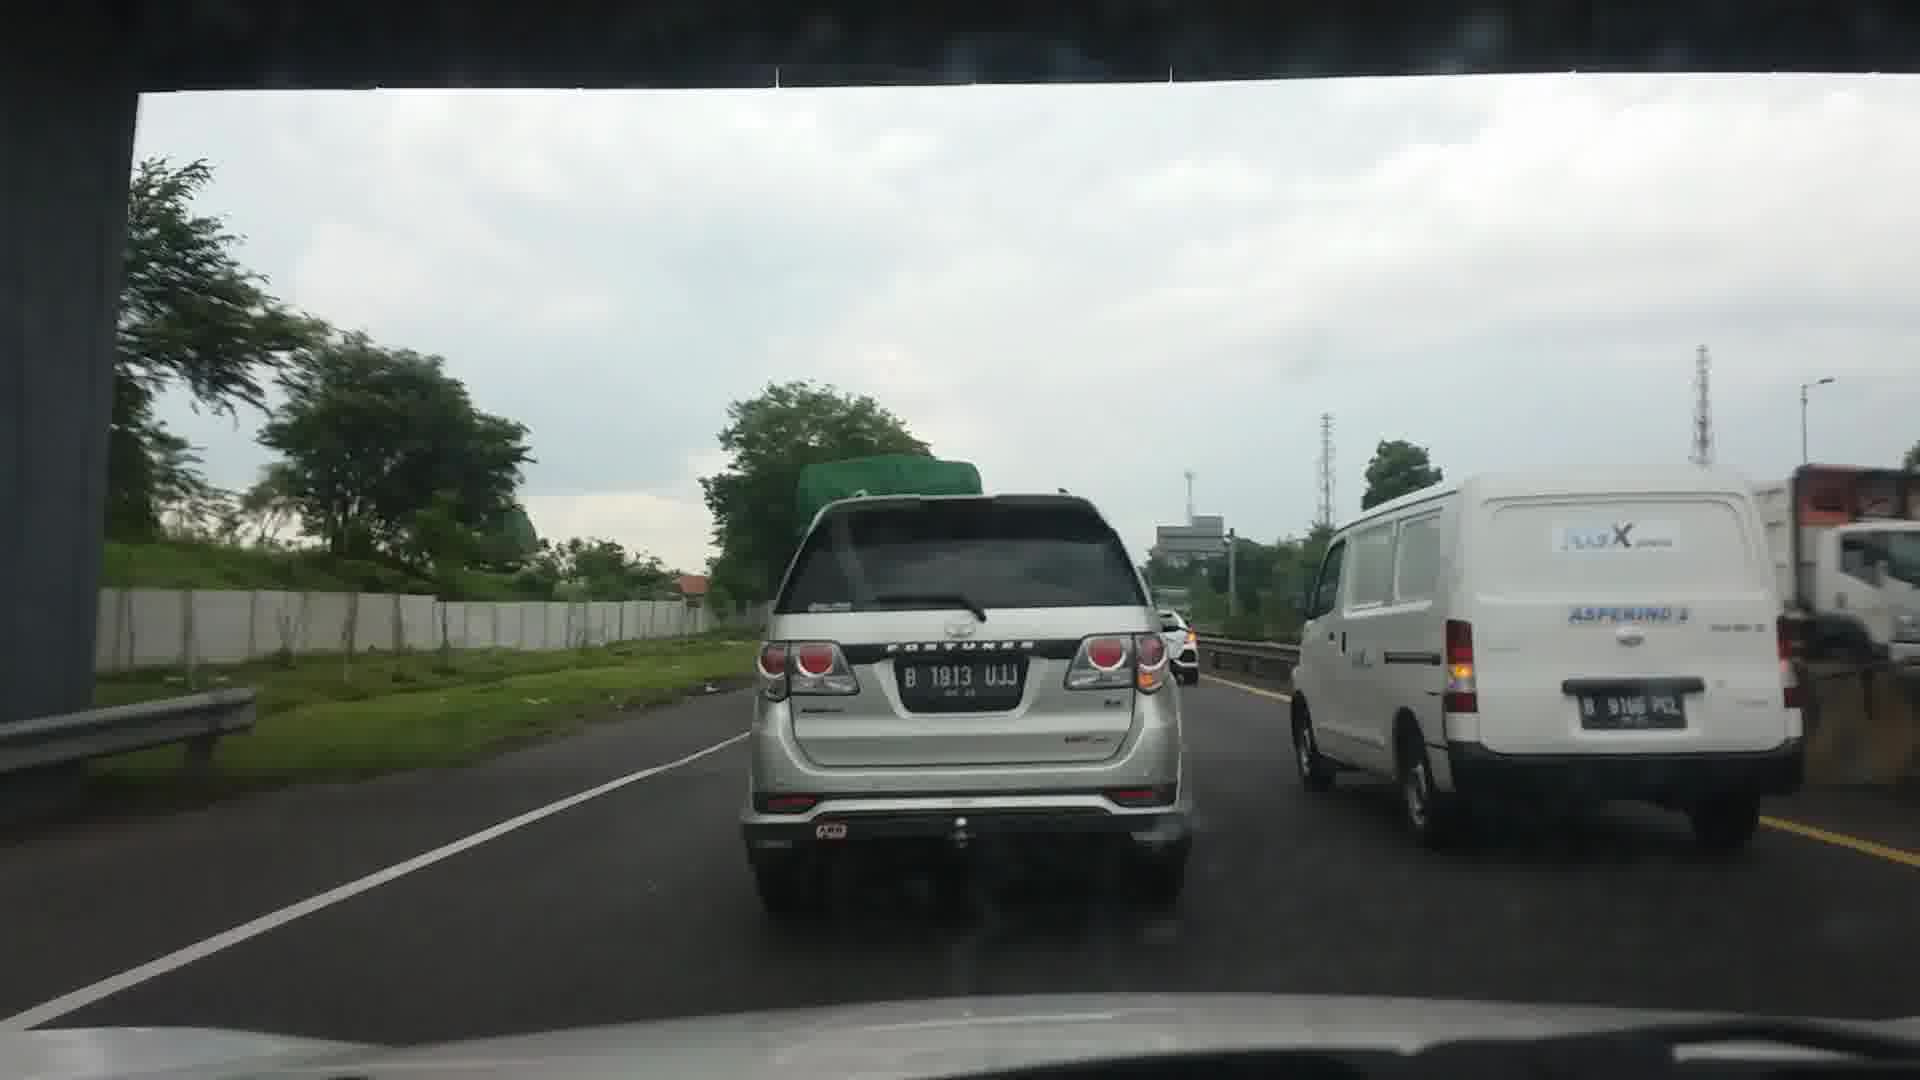plate_positive: (899, 659, 1021, 699), (1578, 690, 1688, 728)
